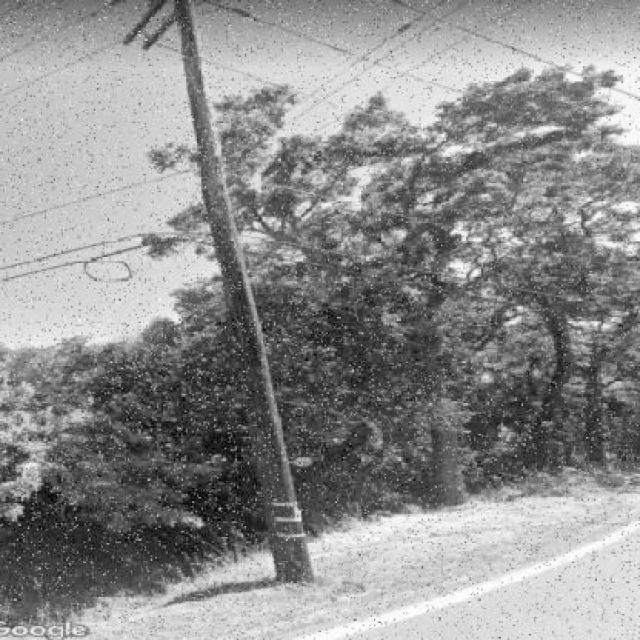crossarm: (122, 2, 168, 48), (146, 10, 175, 52)
pole: (176, 2, 315, 584)
wire: (393, 0, 640, 103), (280, 1, 469, 129), (288, 1, 450, 113), (155, 42, 360, 116), (203, 0, 388, 67), (2, 165, 200, 225), (2, 232, 212, 273), (0, 0, 125, 64), (0, 39, 124, 99), (0, 242, 162, 284)
